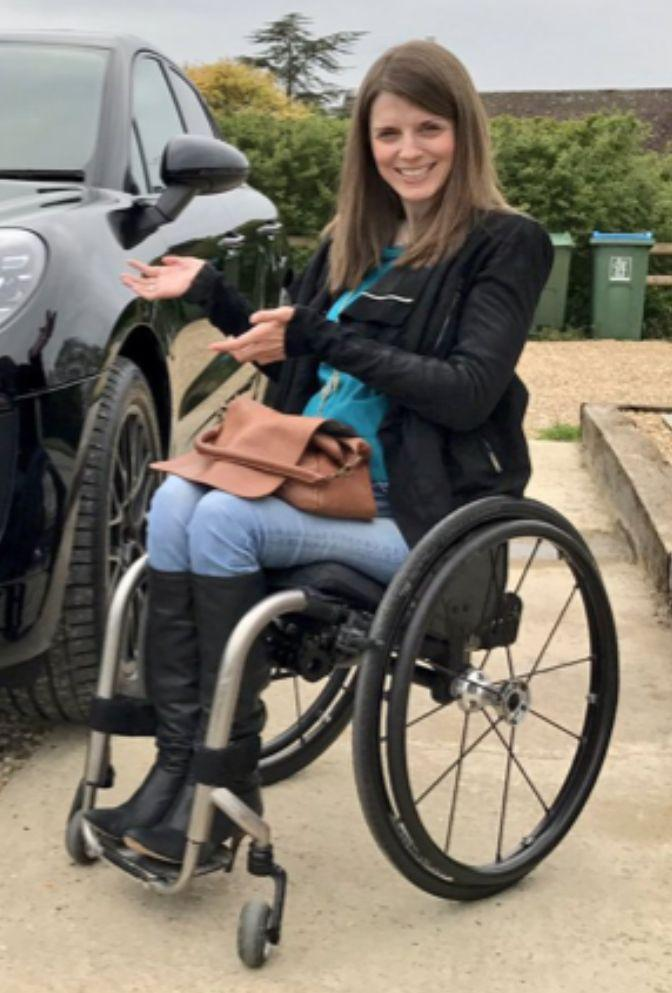wheelchair: (65, 39, 622, 969)
